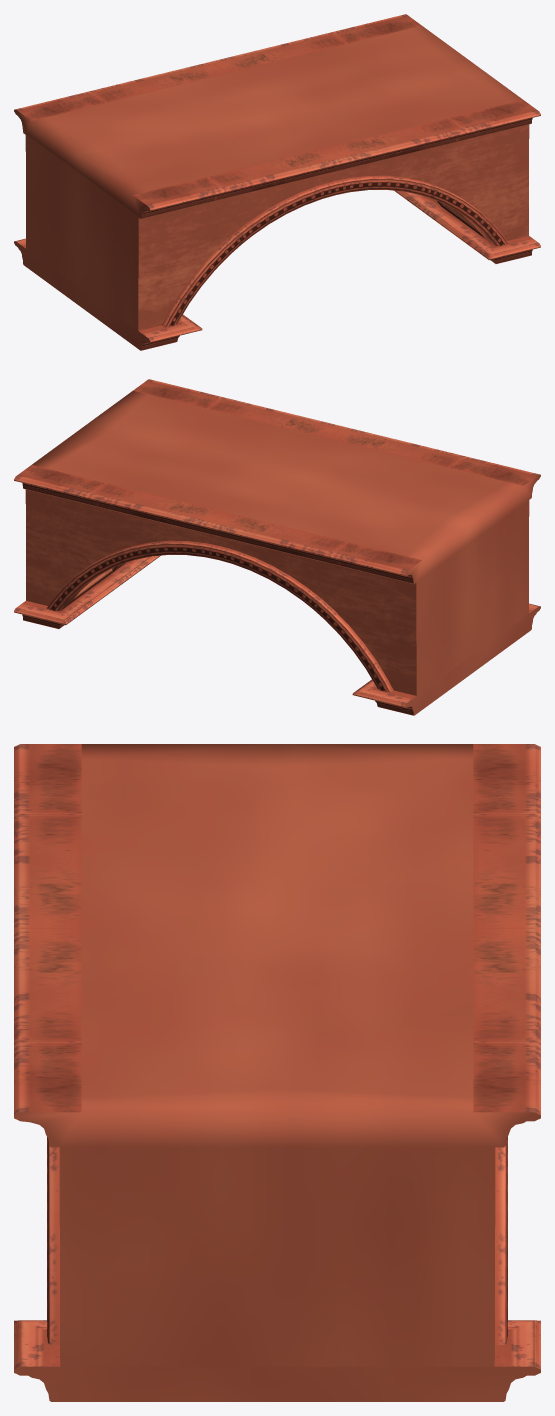
Rendered from MSH_Arch_02.FBX.
The picture shows the model from 3 angles, top to bottom: view 1: azimuth 30°, elevation 25°; view 2: azimuth 150°, elevation 25°; view 3: azimuth 270°, elevation 25°; orthographic projection. The views are drawn at different scales.
Parts seen in each view (by area): view 1: MSH_Arch_02; view 2: MSH_Arch_02; view 3: MSH_Arch_02.
Part boxes in pixels (left/top/right/bottom): MSH_Arch_02: left=14, top=14, right=540, bottom=350; MSH_Arch_02: left=14, top=379, right=540, bottom=715; MSH_Arch_02: left=14, top=744, right=540, bottom=1401.
Size of what is drawn, in the model's own units: 360 by 218 by 132.
